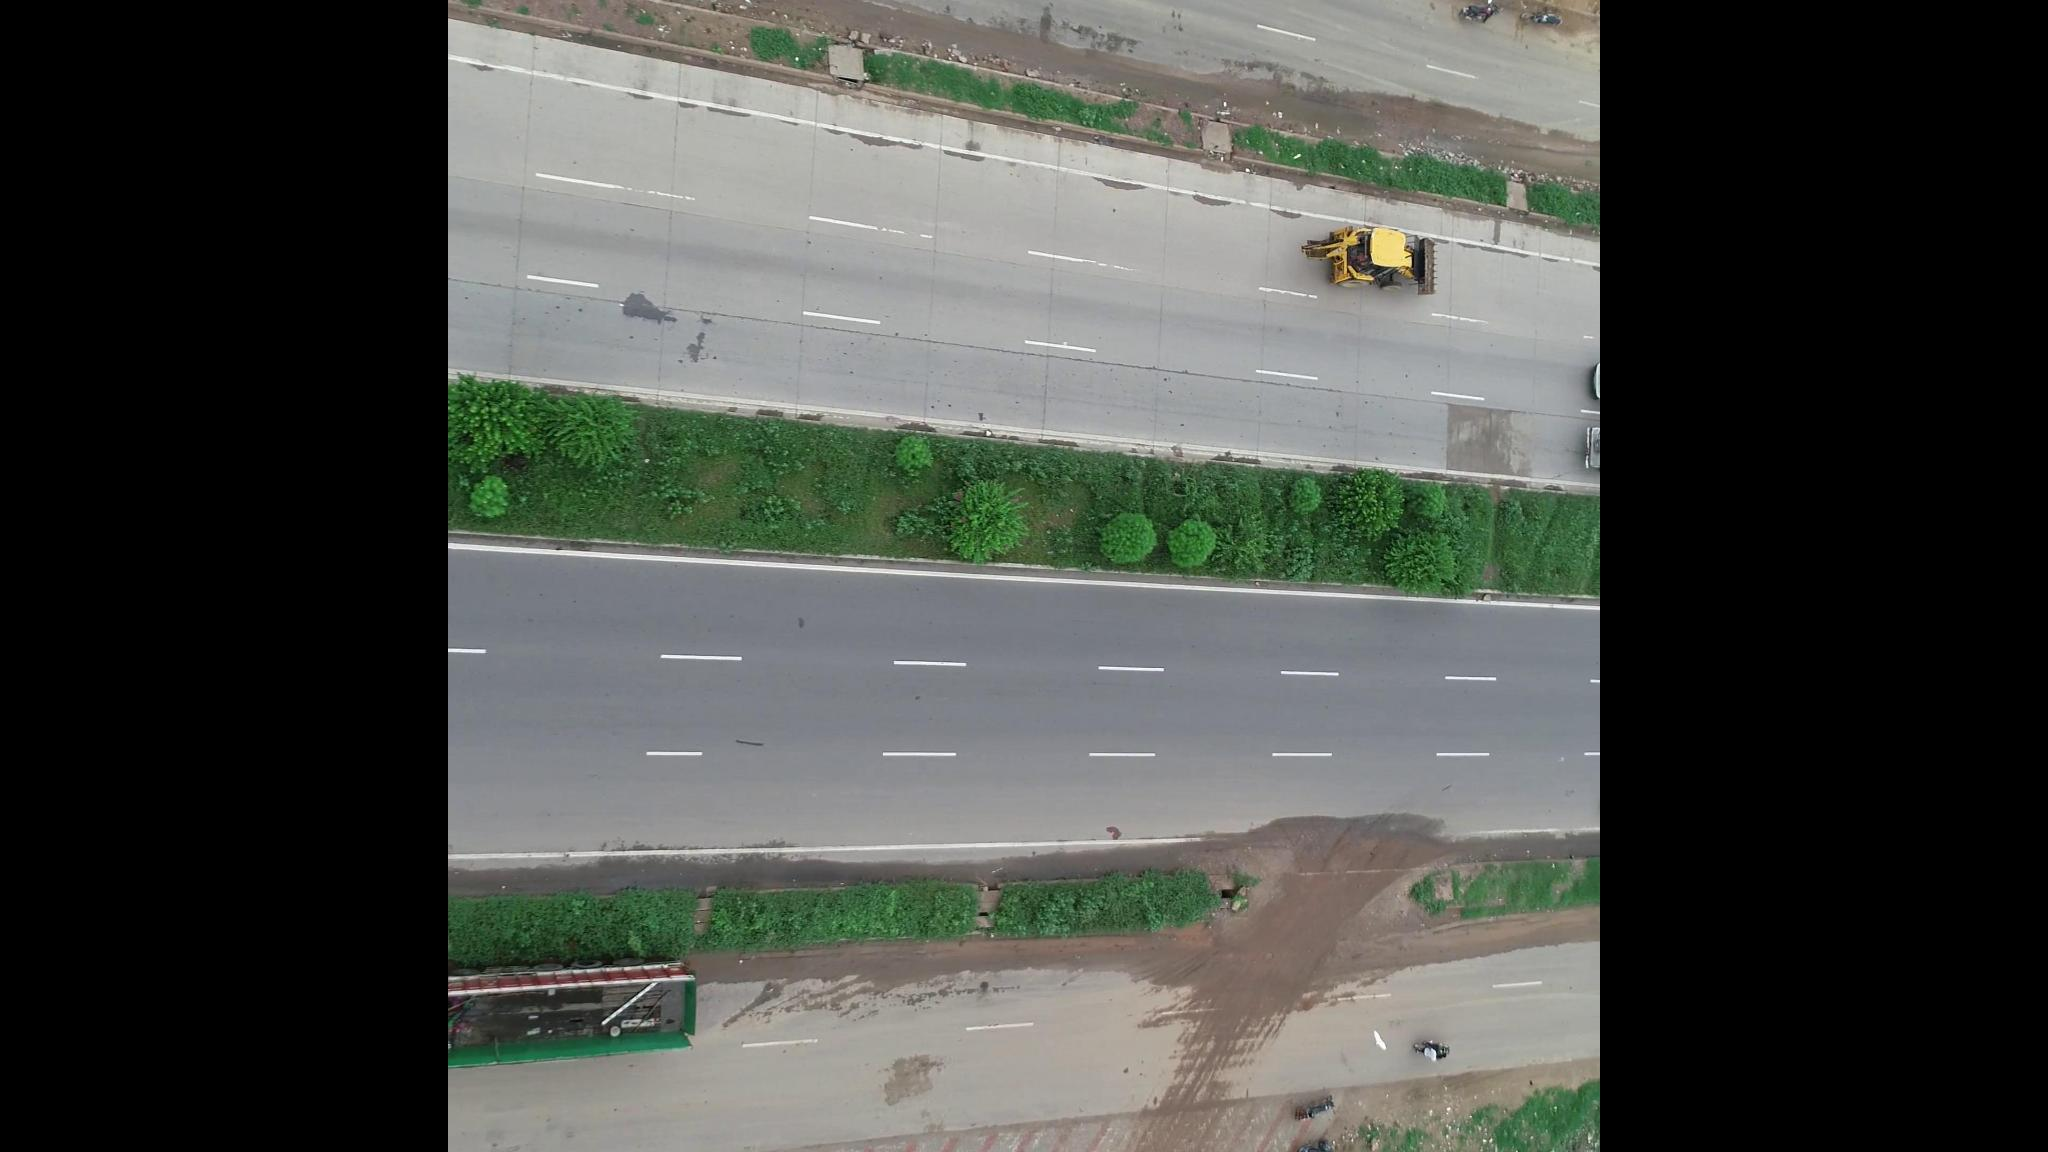Muddy_road: (1144, 927, 1411, 1048), (1342, 72, 1575, 174)
